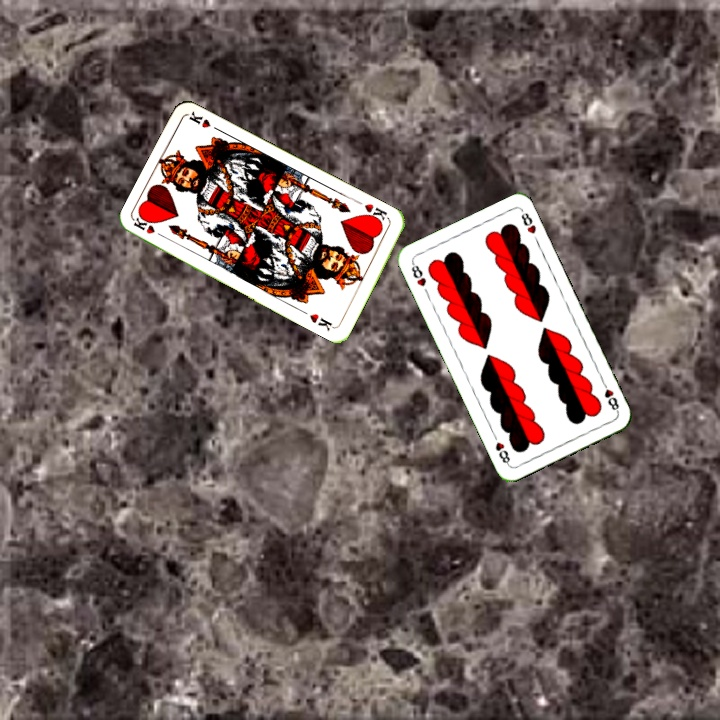H8: (598, 377, 622, 415), (407, 259, 429, 289)
HK: (130, 214, 169, 241), (360, 199, 392, 227)
